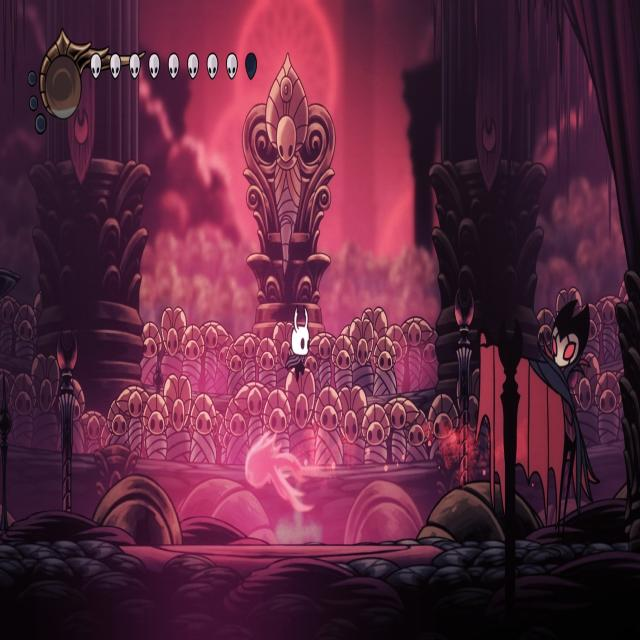Fire Bat: (246, 436, 312, 508)
Open Cloak: (472, 292, 602, 550)
Player: (286, 304, 314, 386)
